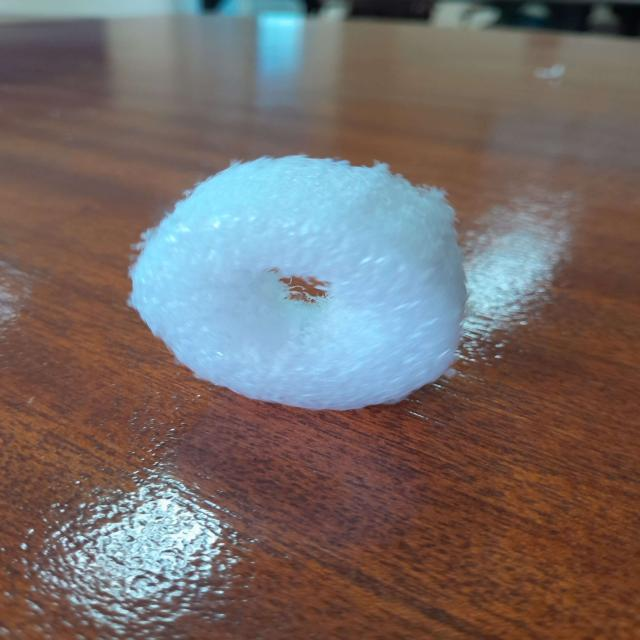wheel: (100, 144, 462, 392)
